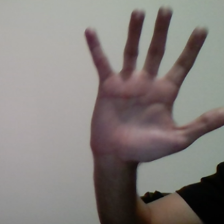left: (71, 2, 224, 162)
